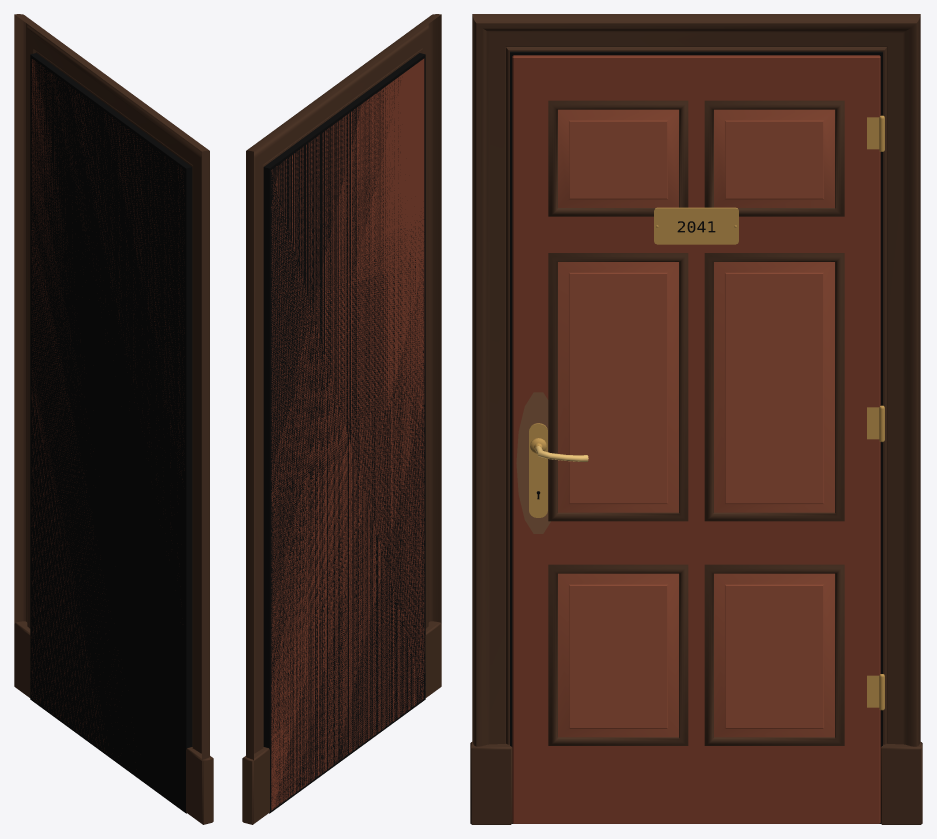
File: hotel_door_b.glb
The picture shows the model from 3 angles, left to right: view 1: azimuth 30°, elevation 25°; view 2: azimuth 150°, elevation 25°; view 3: azimuth 270°, elevation 25°; orthographic projection. The views are drawn at different scales.
Visible parts, largest first — view 1: fuge, bekleidung, blatt; view 2: fuge, blatt, bekleidung; view 3: fuellungen, blatt, bekleidung, kehlleisten, fuge, beschlag, nummernschild, abrieb.
Part boxes in pixels (bbox=[...]): fuge: bbox=[30, 53, 192, 813]; bekleidung: bbox=[14, 14, 213, 824]; blatt: bbox=[31, 59, 184, 752]; fuge: bbox=[263, 53, 425, 813]; blatt: bbox=[271, 58, 424, 810]; bekleidung: bbox=[242, 14, 441, 824]; fuellungen: bbox=[558, 109, 834, 737]; blatt: bbox=[512, 55, 880, 823]; bekleidung: bbox=[470, 14, 922, 824]; kehlleisten: bbox=[548, 100, 844, 745]; fuge: bbox=[510, 51, 882, 823]; beschlag: bbox=[529, 115, 884, 710]; nummernschild: bbox=[654, 207, 738, 244]; abrieb: bbox=[516, 392, 550, 533].
Bounding box in the file's own units: 0.1118 × 2.22 × 1.13.
